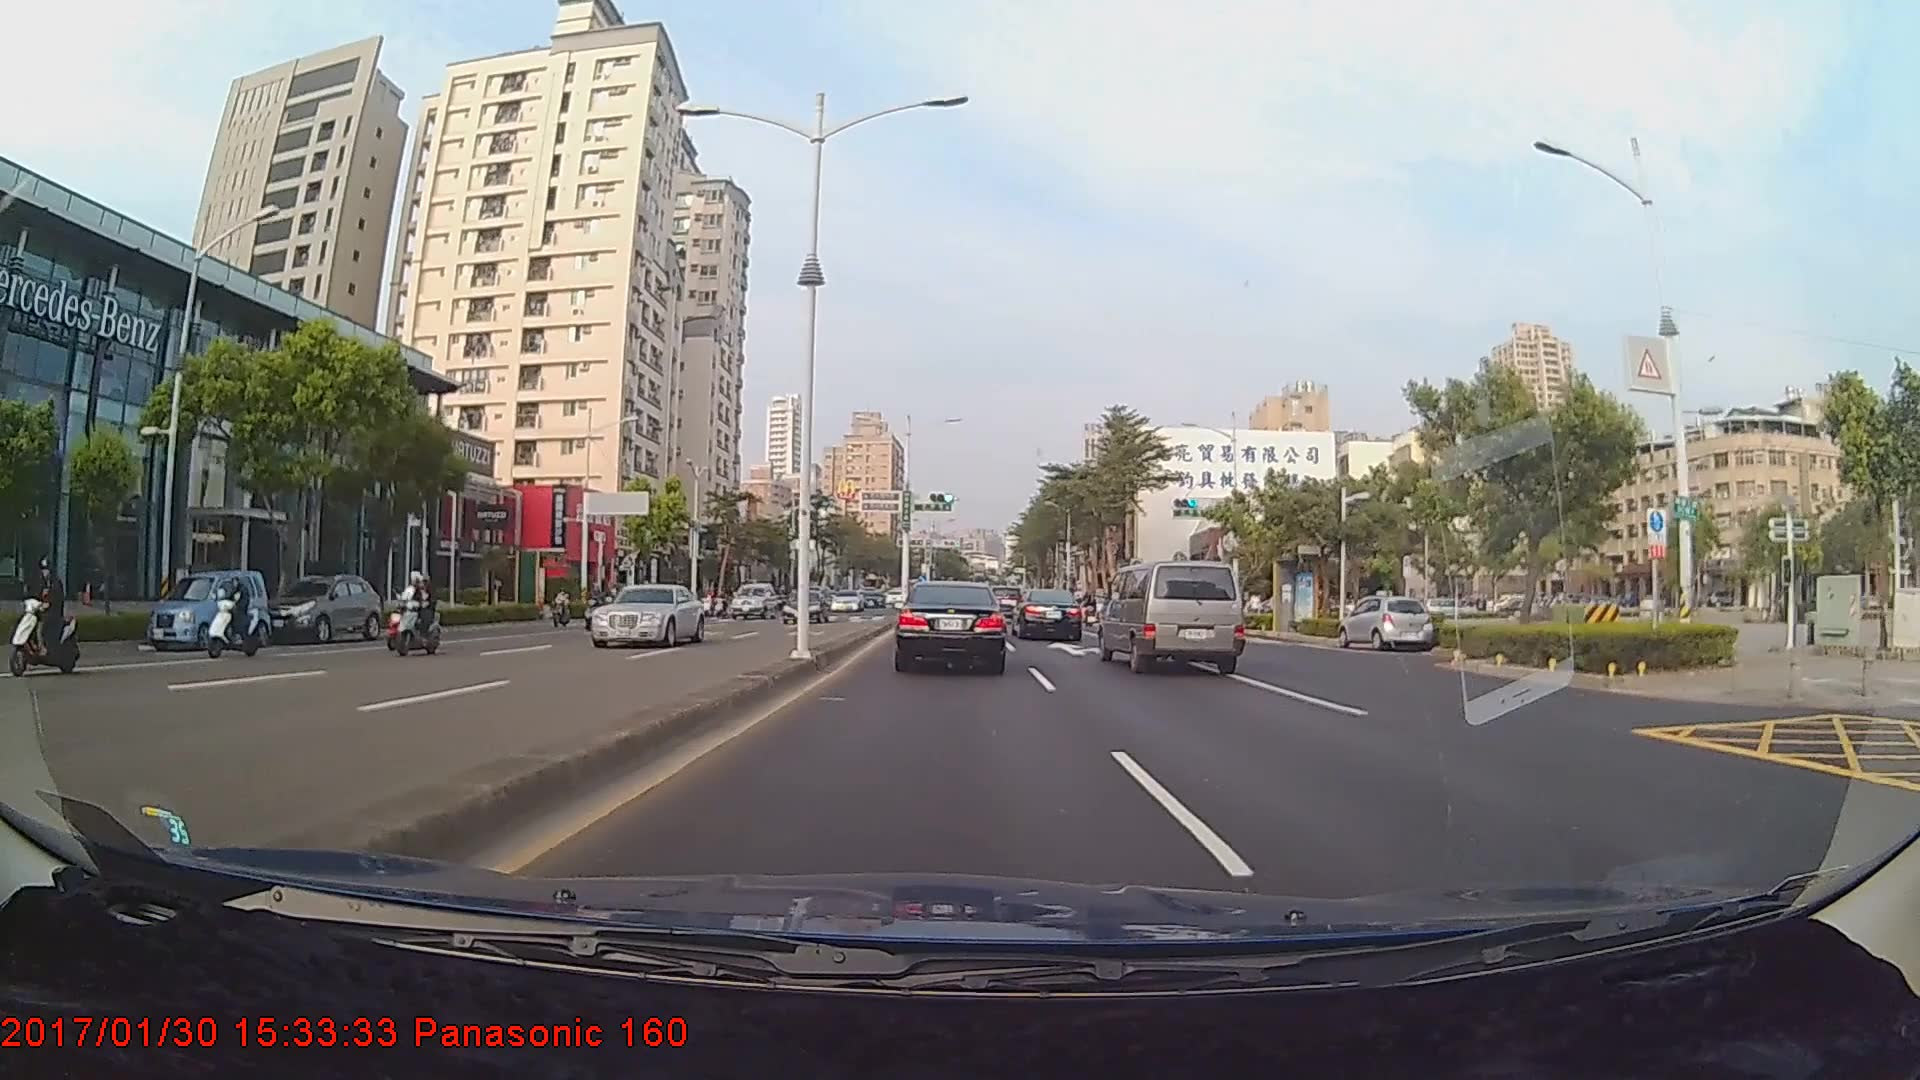rider: (17, 556, 93, 684), (200, 574, 273, 658), (388, 569, 438, 657), (384, 575, 438, 650), (581, 580, 609, 631)
vehicle: (1098, 556, 1244, 675), (144, 565, 270, 650), (895, 579, 1008, 673), (263, 573, 377, 648), (589, 580, 704, 647), (1337, 595, 1432, 652), (1009, 588, 1084, 642), (727, 582, 783, 622), (785, 591, 832, 625), (828, 590, 865, 612)
